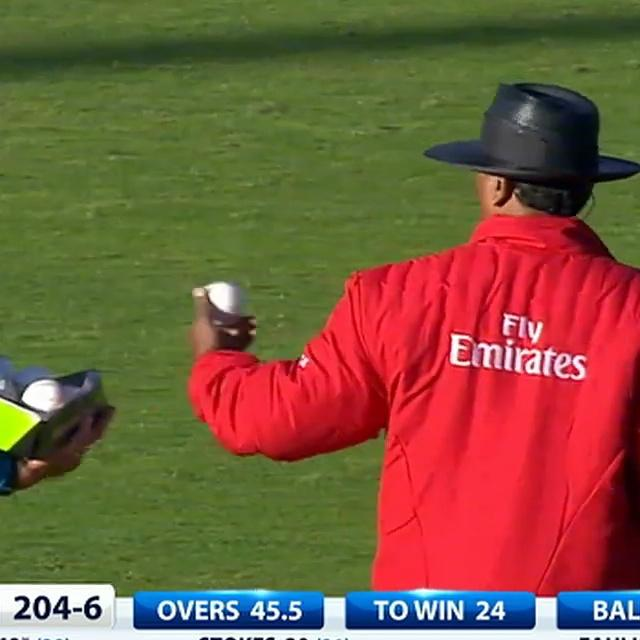umpire: (162, 58, 640, 593)
